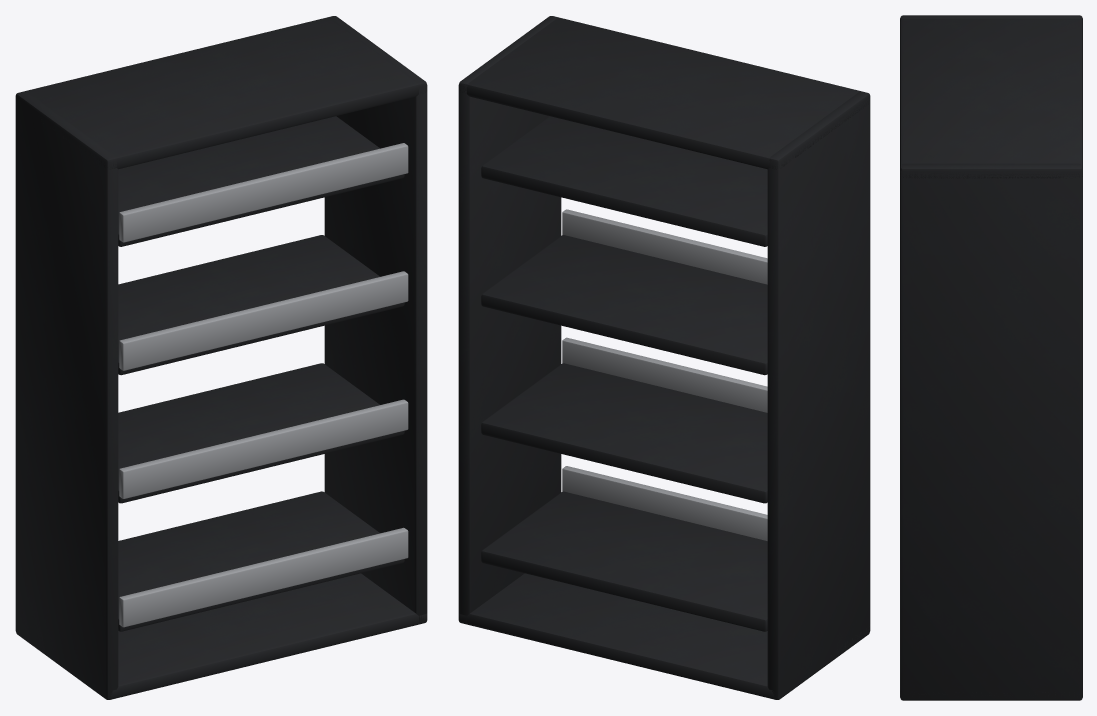
File: pf_display_snack_shelving_t1.glb
The picture shows the model from 3 angles, left to right: view 1: azimuth 30°, elevation 25°; view 2: azimuth 150°, elevation 25°; view 3: azimuth 270°, elevation 25°; orthographic projection.
Visible parts, largest first — view 1: Case_Left, Case_Right, Case_Top, Case_Base, Shelf_02, Shelf_03, Shelf_01, Shelf_04, Shelf_Lip_01, Shelf_Lip_03, Shelf_Lip_04, Shelf_Lip_02; view 2: Case_Left, Case_Right, Case_Top, Shelf_01, Shelf_02, Shelf_03, Shelf_04, Case_Base, Shelf_Lip_02, Shelf_Lip_03, Shelf_Lip_01; view 3: Case_Right, Case_Top, Case_Left, Case_Base.
Boxes of the visible parts, box(x1,y1,x2,y2) form: Case_Left: box(15, 91, 118, 699); Case_Right: box(324, 16, 427, 623); Case_Top: box(16, 16, 427, 169); Case_Base: box(57, 573, 427, 699); Shelf_02: box(118, 363, 404, 503); Shelf_03: box(118, 235, 404, 375); Shelf_01: box(118, 491, 404, 631); Shelf_04: box(118, 116, 404, 246); Shelf_Lip_01: box(119, 527, 408, 627); Shelf_Lip_03: box(119, 271, 408, 370); Shelf_Lip_04: box(119, 143, 408, 242); Shelf_Lip_02: box(119, 399, 408, 498); Case_Left: box(767, 91, 870, 699); Case_Right: box(458, 16, 561, 623); Case_Top: box(458, 16, 869, 169); Shelf_01: box(481, 491, 767, 631); Shelf_02: box(481, 363, 767, 503); Shelf_03: box(481, 235, 767, 375); Shelf_04: box(481, 116, 767, 246); Case_Base: box(458, 573, 870, 699); Shelf_Lip_02: box(562, 337, 767, 412); Shelf_Lip_03: box(562, 209, 767, 284); Shelf_Lip_01: box(562, 466, 767, 540); Case_Right: box(900, 163, 1082, 699); Case_Top: box(900, 16, 1082, 178); Case_Left: box(900, 15, 1082, 21); Case_Base: box(900, 691, 1082, 700).
Size of the model in its own units: 0.9 by 1.45 by 0.45.
Materials: 3 (1 with a texture image).
